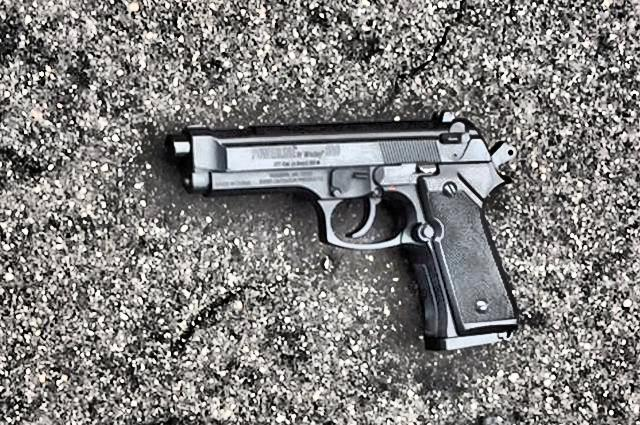pistol: (158, 117, 544, 354)
